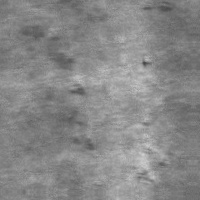rolled-in_scale: (41, 35, 97, 155), (128, 118, 171, 187)
